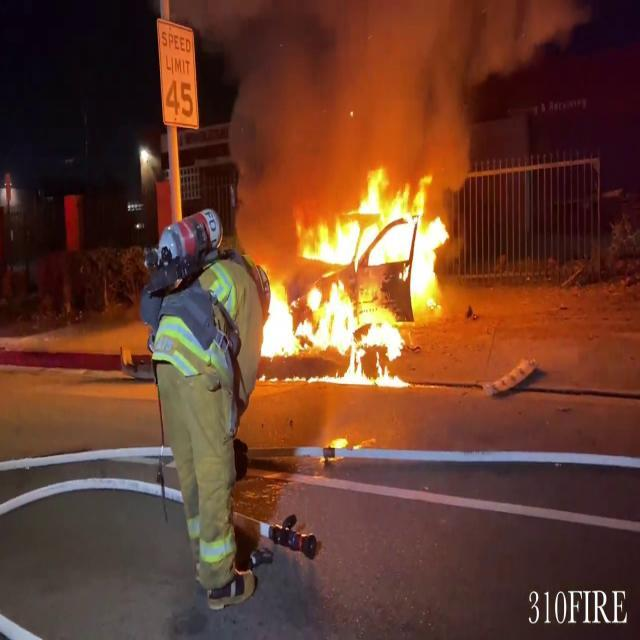Fire: (257, 161, 462, 385)
Smoke: (215, 0, 541, 184)
